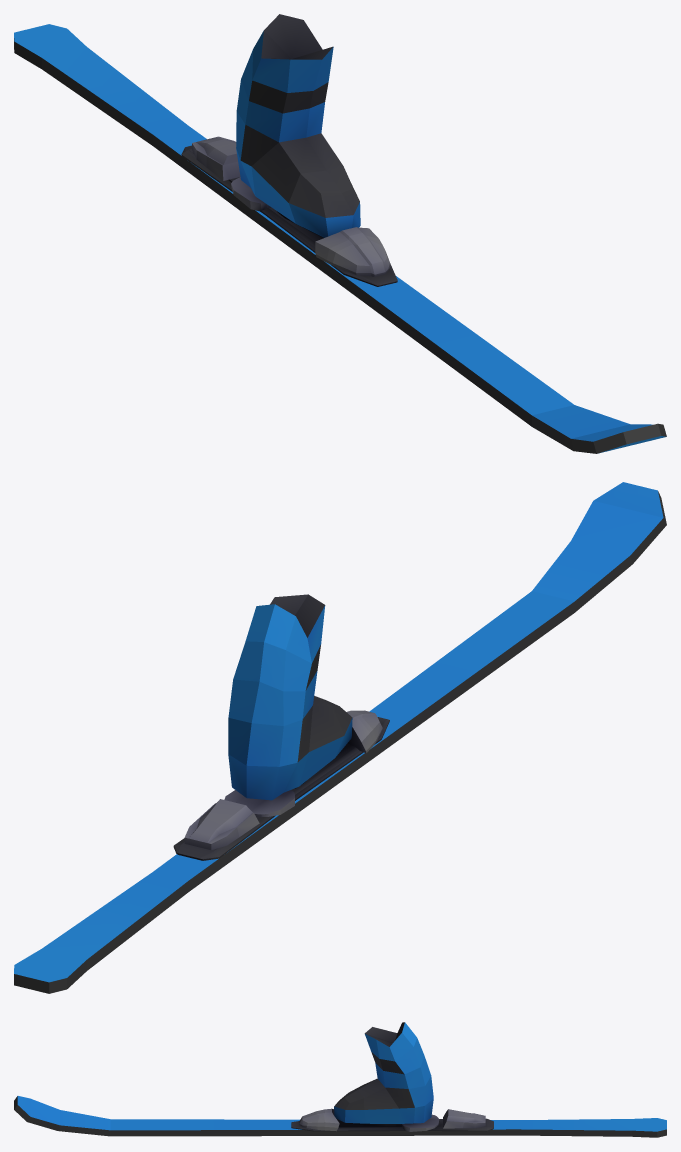
The model's file is human-sports-ski_v1.fbx.
The picture shows the model from 3 angles, top to bottom: view 1: azimuth 30°, elevation 25°; view 2: azimuth 150°, elevation 25°; view 3: azimuth 270°, elevation 25°; orthographic projection. The views are drawn at different scales.
Parts seen in each view (by area): view 1: Ski; view 2: Ski; view 3: Ski.
Part boxes in pixels (x1,y1,x2,y2): Ski: [14, 14, 666, 453]; Ski: [14, 482, 666, 993]; Ski: [14, 1022, 666, 1137].
Size of the model in its own units: 0.1189 by 0.3141 by 1.7.
